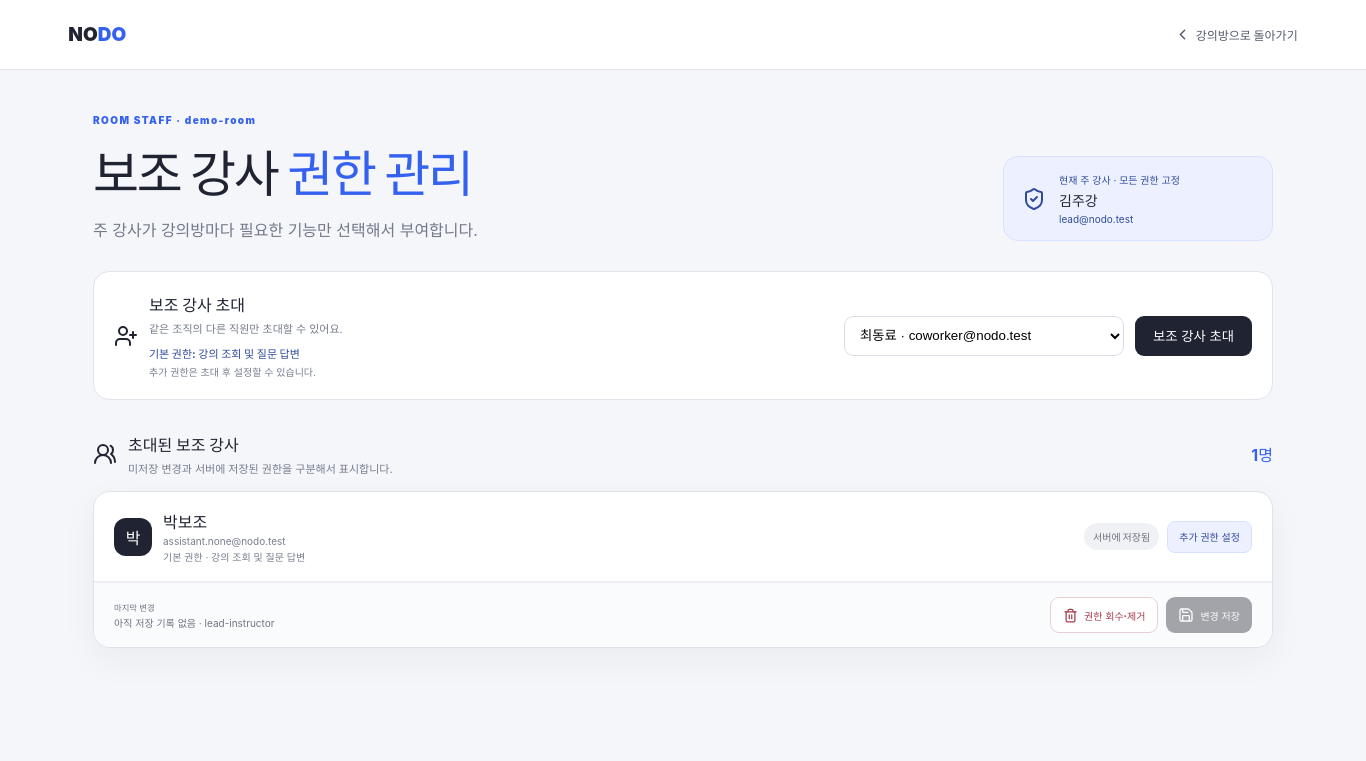
RoomStaffPage › 12개 위임 권한만 표시하고 주 강사·소유권 권한은 표시하지 않는다
Expected: the heading "보조 강사 권한 관리" is shown, x1=93 y1=134 x2=478 y2=206
What coordinates should you click on to do the following:
click the button "추가 권한 설정"
I would click on:
 (1210, 536)
Its box is x1=1167 y1=520 x2=1252 y2=552.
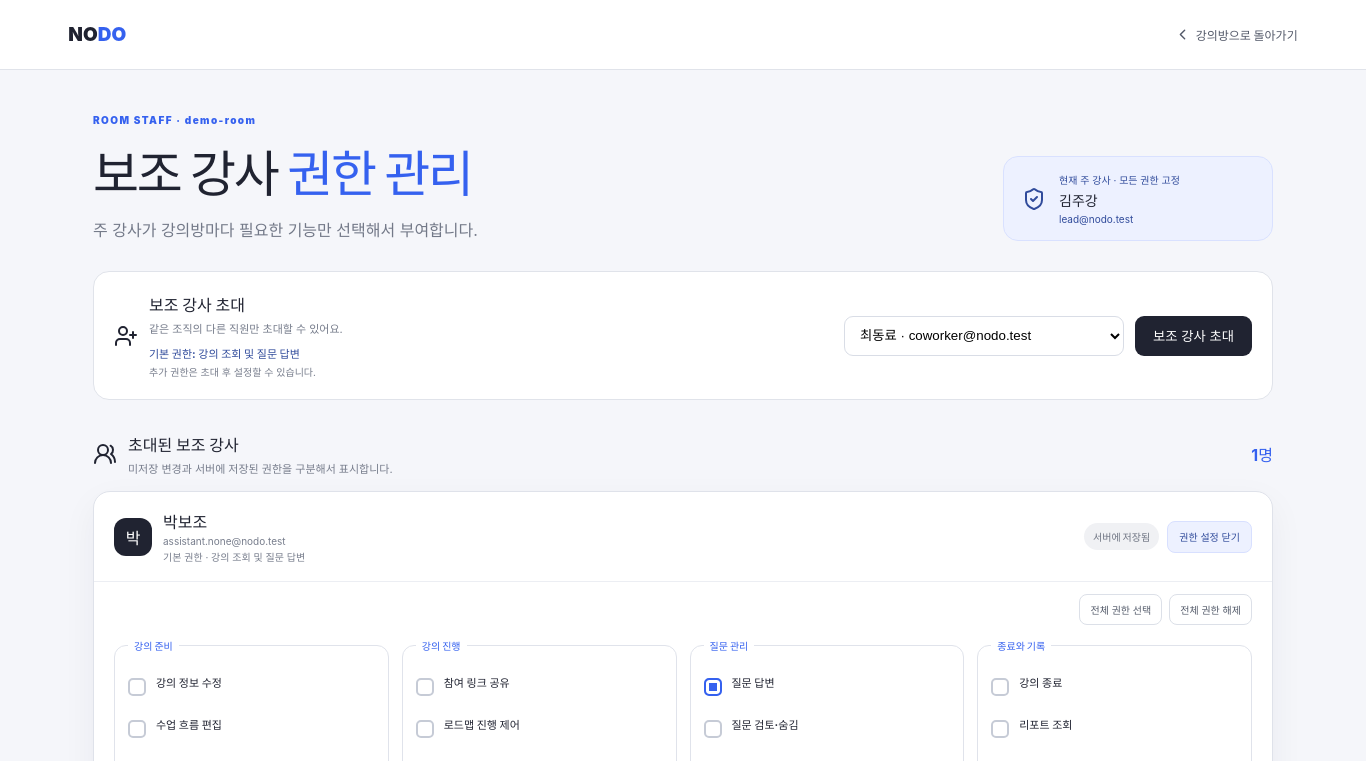
Expected: the text "미저장 변경과 서버에 저장된 권한을 구분해서 표시합니다." is shown, x1=128 y1=460 x2=393 y2=476
Result: the checkbox labelled "질문 답변" is checked at x1=704 y1=676 x2=775 y2=696
